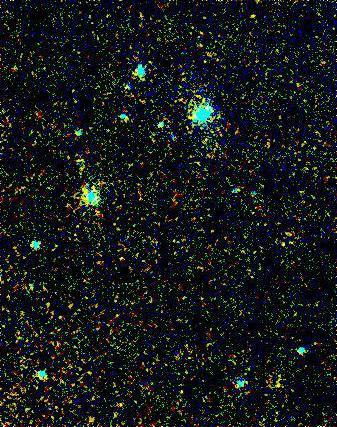star: (262, 370, 292, 400)
